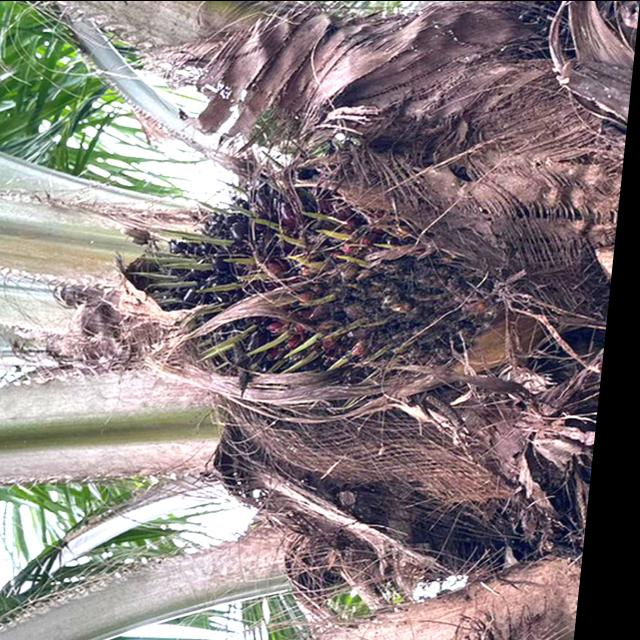unripe: (119, 143, 535, 417)
